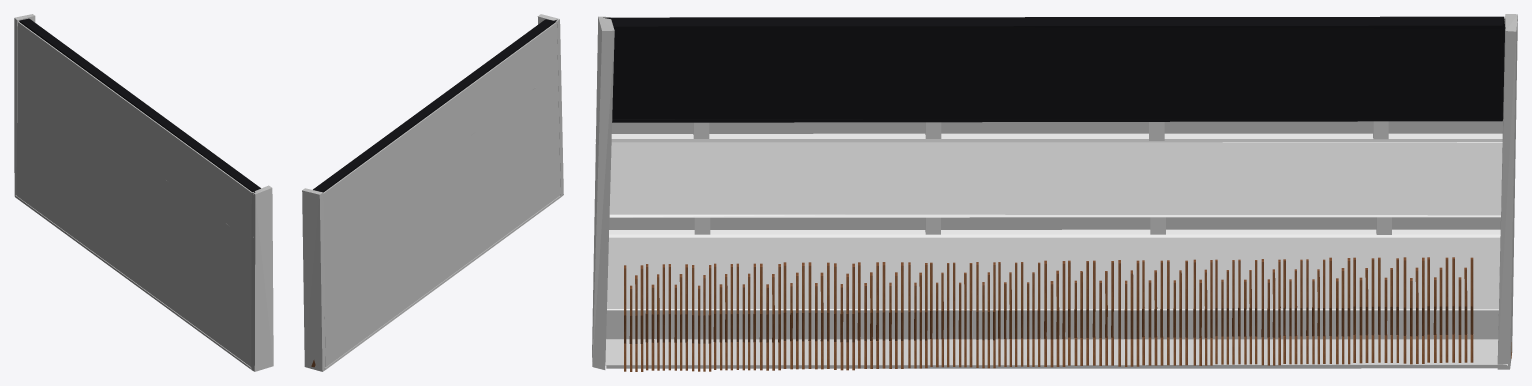
File: north_south_wall.obj
The picture shows the model from 3 angles, left to right: view 1: azimuth 30°, elevation 25°; view 2: azimuth 150°, elevation 25°; view 3: azimuth 270°, elevation 25°; orthographic projection. The views are drawn at different scales.
Visible parts, largest first — view 1: Cube.022_, Cube.022_Material.001; view 2: Cube.022_, Cube.022_Material.001; view 3: Cube.022_Material, Cube.022_Material.001, Cube.022_, Cube.022_Material.006, Cube.022_Material.004, Cube.022_Material.005.
Boxes of the visible parts, left/top/right/bottom form: Cube.022_: left=14, top=14, right=273, bottom=371; Cube.022_Material.001: left=19, top=18, right=260, bottom=192; Cube.022_: left=302, top=14, right=563, bottom=371; Cube.022_Material.001: left=313, top=19, right=557, bottom=192; Cube.022_Material: left=595, top=133, right=1507, bottom=365; Cube.022_Material.001: left=603, top=16, right=1505, bottom=122; Cube.022_: left=592, top=14, right=1517, bottom=369; Cube.022_Material.006: left=624, top=257, right=1473, bottom=315; Cube.022_Material.004: left=624, top=306, right=1473, bottom=343; Cube.022_Material.005: left=624, top=334, right=1473, bottom=371.
Size of the model in its own units: 5.29 by 33.49 by 82.53.
